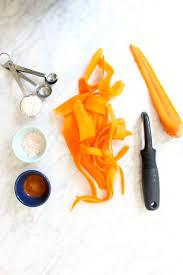Organic: (47, 33, 147, 215)
